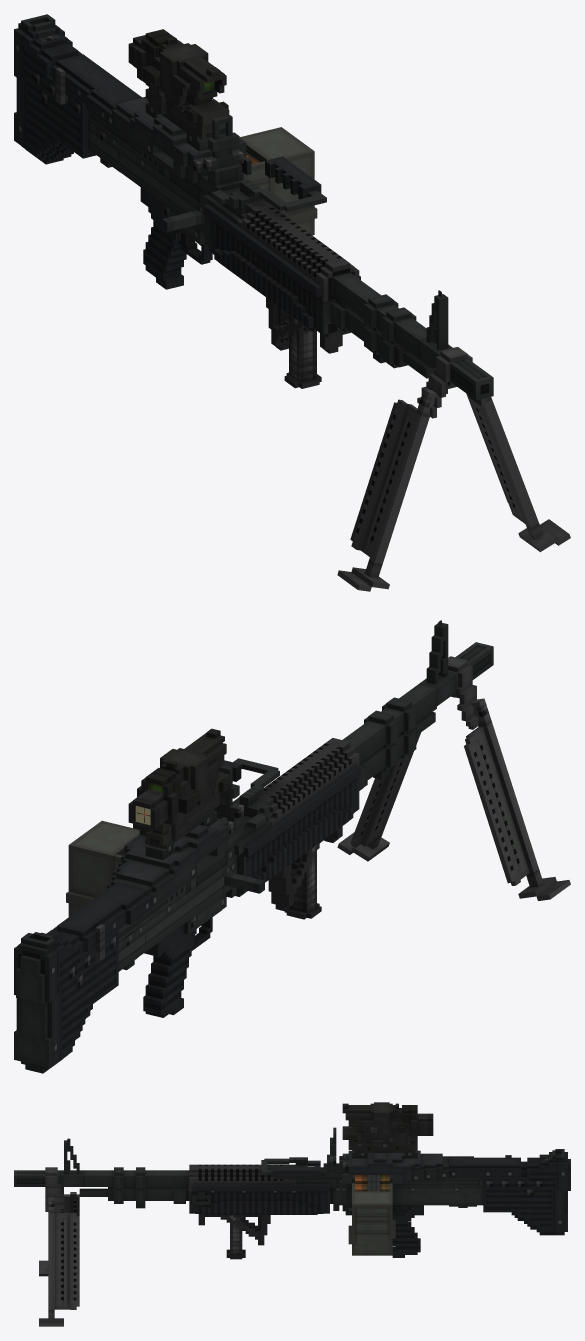
3 renders of one model, top to bottom at view 1: azimuth 30°, elevation 25°; view 2: azimuth 150°, elevation 25°; view 3: azimuth 270°, elevation 25°, orthographic. The views are drawn at different scales.
Parts seen in each view (by area): view 1: M60, M60_DIPOD_LEG1, M60_COVER, SCOPE_SUSAT, M60_DIPOD_LEG2, M60_CLIP, GRIP1, SCOPE_ACOG, GRIP3, M60_DIPOD, M60_SCOPE, SCOPE_KOBRA; view 2: M60, M60_COVER, M60_DIPOD_LEG1, SCOPE_SUSAT, M60_CLIP, M60_DIPOD_LEG2, SCOPE_ACOG, GRIP3, M60_DIPOD, GRIP1, SCOPE_KOBRA, M60_SCOPE (+2 smaller); view 3: M60, M60_COVER, M60_DIPOD_LEG2, M60_CLIP, SCOPE_SUSAT, SCOPE_ACOG, GRIP3, M60_DIPOD, GRIP1, M60_DIPOD_LEG1, SCOPE_KOBRA, M60_COVER_PLANK.
Part boxes in pixels (<box>): M60: <box>14,14,493,400</box>; M60_DIPOD_LEG1: <box>337,389,436,591</box>; M60_COVER: <box>52,54,246,171</box>; SCOPE_SUSAT: <box>141,29,229,139</box>; M60_DIPOD_LEG2: <box>466,393,570,552</box>; M60_CLIP: <box>239,127,317,235</box>; GRIP1: <box>284,312,321,388</box>; SCOPE_ACOG: <box>128,35,213,110</box>; GRIP3: <box>266,297,342,353</box>; M60_DIPOD: <box>417,347,485,418</box>; M60_SCOPE: <box>208,115,239,169</box>; SCOPE_KOBRA: <box>149,85,199,137</box>; M60: <box>14,620,493,1073</box>; M60_COVER: <box>52,817,228,961</box>; M60_DIPOD_LEG1: <box>464,698,570,900</box>; SCOPE_SUSAT: <box>141,728,229,846</box>; M60_CLIP: <box>66,820,139,916</box>; M60_DIPOD_LEG2: <box>337,733,420,861</box>; SCOPE_ACOG: <box>128,756,220,832</box>; GRIP3: <box>268,826,342,911</box>; M60_DIPOD: <box>431,656,478,729</box>; GRIP1: <box>284,851,321,919</box>; SCOPE_KOBRA: <box>171,793,217,841</box>; M60_SCOPE: <box>214,765,239,815</box>; M60: <box>14,1138,570,1257</box>; M60_COVER: <box>339,1150,520,1183</box>; M60_DIPOD_LEG2: <box>39,1197,79,1326</box>; M60_CLIP: <box>348,1183,395,1255</box>; SCOPE_SUSAT: <box>342,1102,417,1152</box>; SCOPE_ACOG: <box>358,1109,433,1140</box>; GRIP3: <box>198,1213,270,1245</box>; M60_DIPOD: <box>45,1167,63,1211</box>; GRIP1: <box>226,1215,245,1259</box>; M60_DIPOD_LEG1: <box>39,1192,79,1276</box>; SCOPE_KOBRA: <box>352,1128,408,1151</box>; M60_COVER_PLANK: <box>352,1150,417,1158</box>.
Size of the model in its own units: 0.4731 by 0.673 by 1.75.
Materials: 11 (11 with a texture image).
